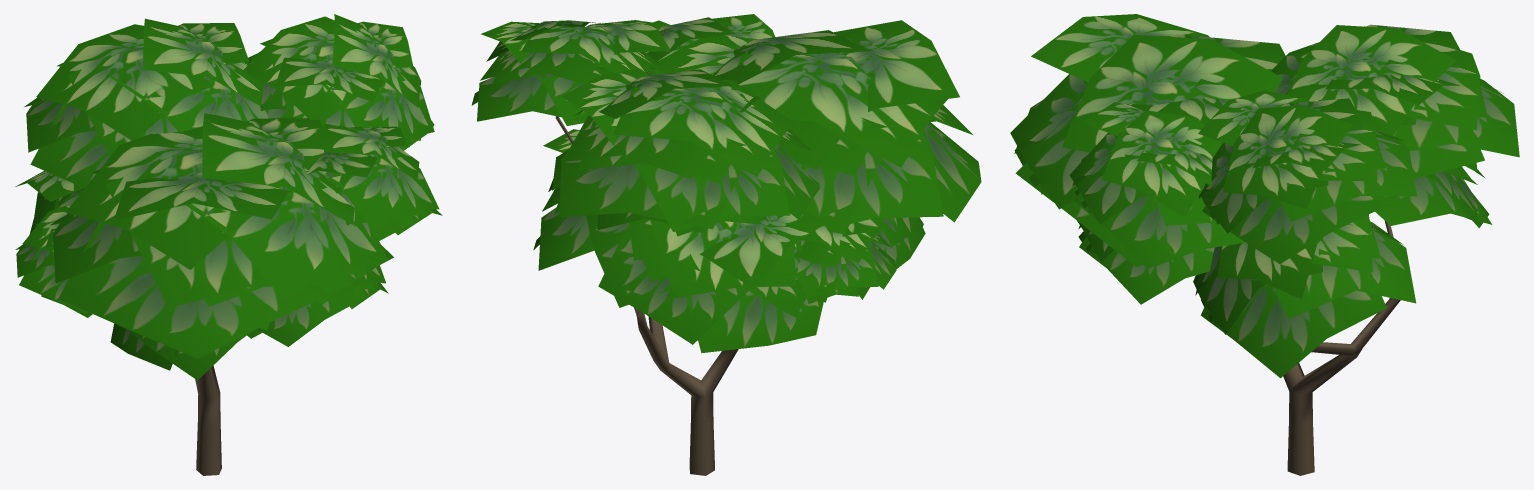
The model's file is Tree_005_Mesh_004.fbx.
3 renders of one model, left to right at view 1: azimuth 30°, elevation 25°; view 2: azimuth 150°, elevation 25°; view 3: azimuth 270°, elevation 25°, orthographic. The views are drawn at different scales.
Parts seen in each view (by area): view 1: Tree_005_Mesh_004; view 2: Tree_005_Mesh_004; view 3: Tree_005_Mesh_004.
Part boxes in pixels (<box>): Tree_005_Mesh_004: <box>15,14,442,475</box>; Tree_005_Mesh_004: <box>471,14,981,475</box>; Tree_005_Mesh_004: <box>1010,14,1519,475</box>.
Size of the model in its own units: 4144 by 3936 by 4216.
